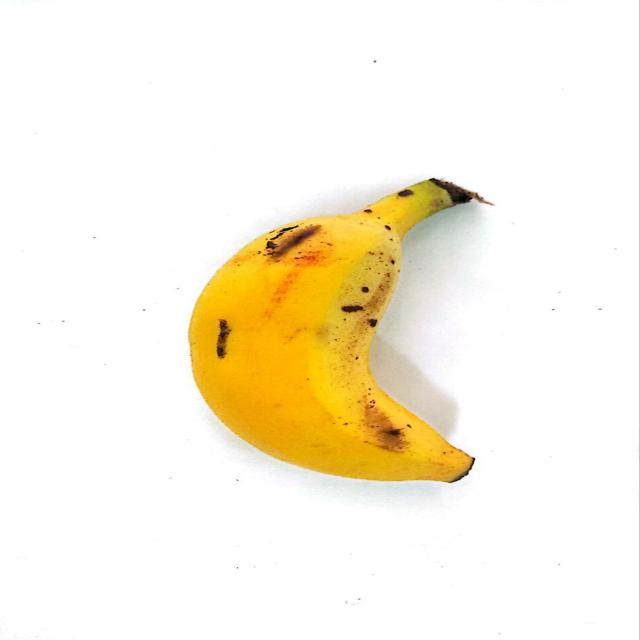fresh_banana: (189, 180, 491, 480)
